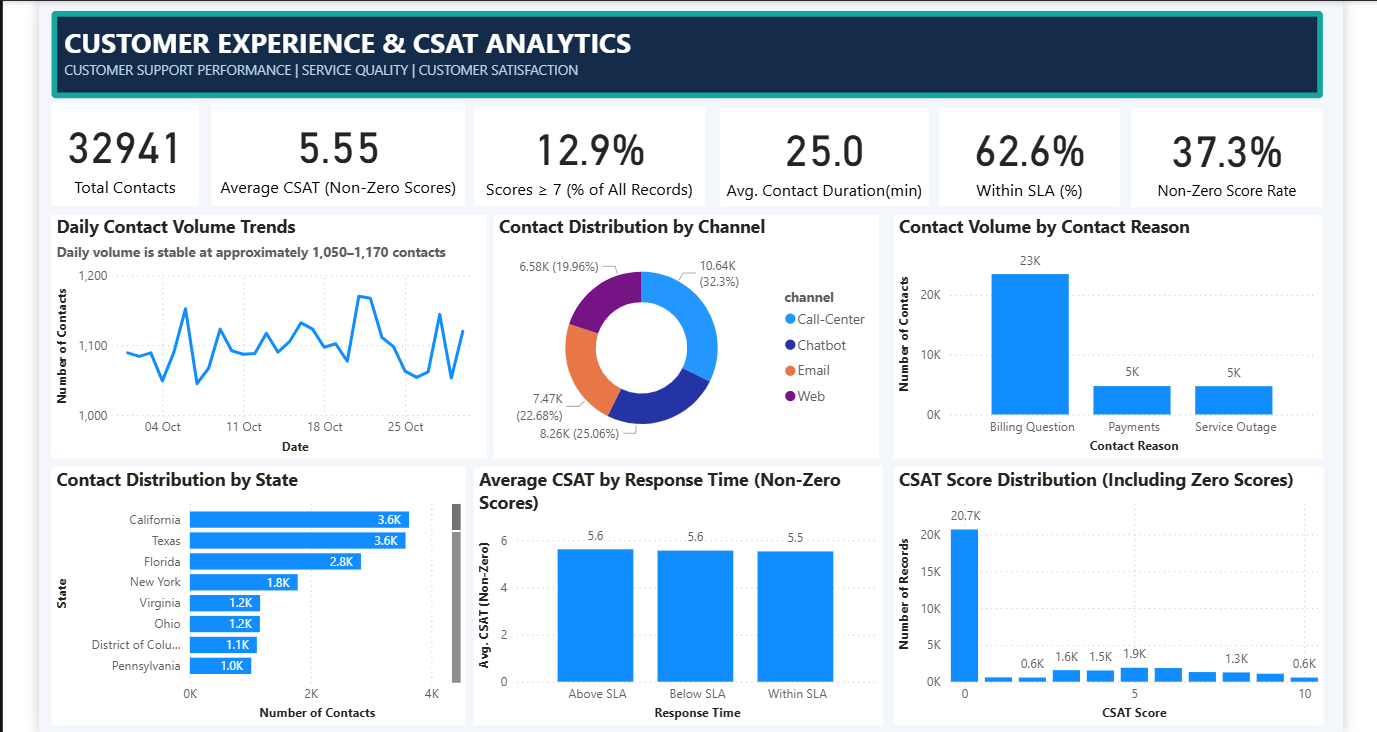

Layout of this report page (visuals, bound fields, positions):
{"tool":"powerbi","page":{"name":"Executive Overview","canvas":[1280,720],"ordinal":0},"visuals":[{"type":"card","fields":{"Values":["csat_data.Total Calls"]},"box":[12.3,100.6,144.8,100.6],"z":0},{"type":"card","fields":{"Values":["csat_data.Average CSAT (Non-Zero Scores)"]},"box":[169.3,100.6,249.1,100.6],"z":1000},{"type":"card","fields":{"Values":["csat_data.CSAT %"]},"box":[427,104.3,227,96.9],"z":2000},{"type":"card","fields":{"Values":["csat_data.SLA Response %"]},"box":[883.4,105.5,177.9,95.7],"z":3000},{"type":"lineChart","title":"Daily Contact Volume Trends","fields":{"Y":["CountNonNull(csat_data.id)"],"Category":["csat_data.call_timestamp"]},"box":[12.3,209.8,427,239.3],"z":4000},{"type":"donutChart","title":"Contact Distribution by Channel","fields":{"Category":["csat_data.channel"],"Y":["CountNonNull(csat_data.id)"]},"box":[446.6,209.8,377.9,239.3],"z":5000},{"type":"clusteredColumnChart","title":"Contact Volume by Contact Reason","fields":{"Category":["csat_data.reason"],"Y":["CountNonNull(csat_data.id)"]},"box":[839.3,209.8,420.9,239.3],"z":6000},{"type":"clusteredColumnChart","title":"Average CSAT by Response Time (Non-Zero Scores)","fields":{"Category":["csat_data.response_time"],"Y":["csat_data.Average CSAT Non-Zero by Response Time"]},"box":[427.5,457.5,401.2,253.8],"z":7000},{"type":"card","fields":{"Values":["csat_data.Average Call Duration"]},"box":[668.7,105.5,204.9,95.7],"z":9000},{"type":"clusteredColumnChart","title":"CSAT Score Distribution (Including Zero Scores)","fields":{"Category":["csat_data.csat_score"],"Y":["CountNonNull(csat_data.id)"]},"box":[838.8,457.5,421.2,253.8],"z":10000},{"type":"card","fields":{"Values":["csat_data.Response Rate"]},"box":[1072.4,105.5,187.7,96.9],"z":11000},{"type":"clusteredBarChart","title":"Contact Distribution by State","fields":{"Category":["csat_data.state"],"Y":["CountNonNull(csat_data.id)"]},"box":[12.5,457.5,406.2,253.8],"z":12000},{"type":"textbox","box":[12.3,9.8,1247.9,85.9],"z":13001}]}

Visuals, with their boxes on the page's 1280x720 design canvas (x1, y1, x2, y2). These are canvas units, not pixel positions in the 1377x732 screenshot, which may show the page scaled, cropped or inside an application window:
card - csat_data.Total Calls: box=[12, 101, 157, 201]
card - csat_data.Average CSAT (Non-Zero Scores): box=[169, 101, 418, 201]
card - csat_data.CSAT %: box=[427, 104, 654, 201]
card - csat_data.SLA Response %: box=[883, 106, 1061, 201]
"Daily Contact Volume Trends" lineChart: box=[12, 210, 439, 449]
"Contact Distribution by Channel" donutChart: box=[447, 210, 824, 449]
"Contact Volume by Contact Reason" clusteredColumnChart: box=[839, 210, 1260, 449]
"Average CSAT by Response Time (Non-Zero Scores)" clusteredColumnChart: box=[428, 458, 829, 711]
card - csat_data.Average Call Duration: box=[669, 106, 874, 201]
"CSAT Score Distribution (Including Zero Scores)" clusteredColumnChart: box=[839, 458, 1260, 711]
card - csat_data.Response Rate: box=[1072, 106, 1260, 202]
"Contact Distribution by State" clusteredBarChart: box=[12, 458, 419, 711]
textbox: box=[12, 10, 1260, 96]
